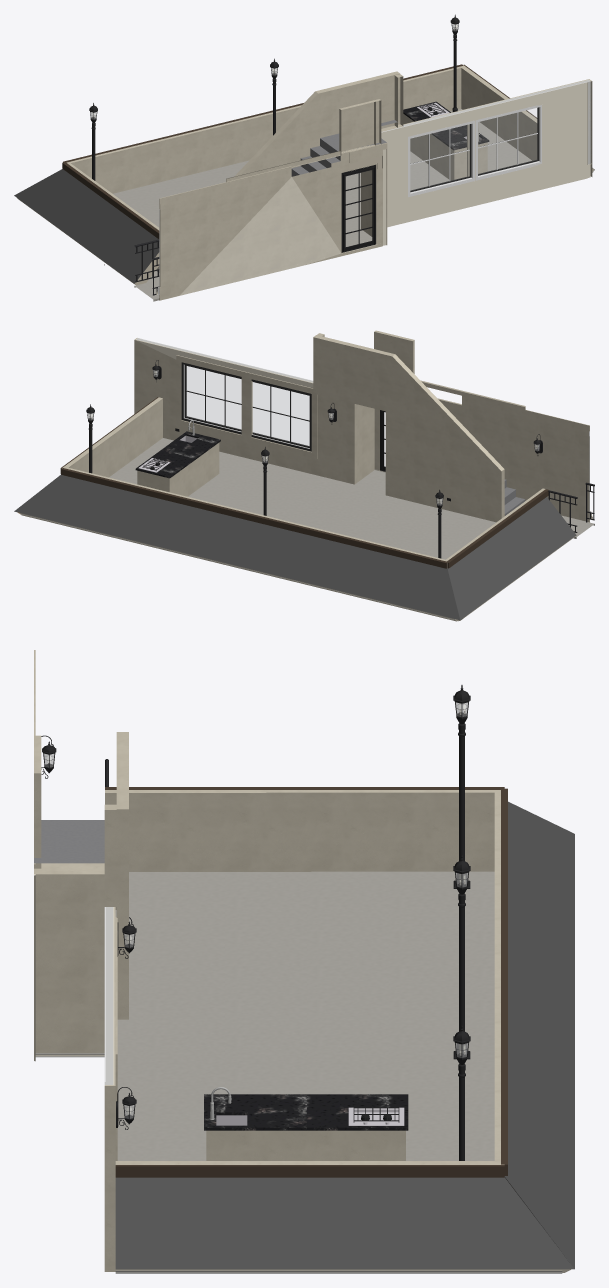
The model's file is rear-deck-8807fd7ee71a.glb.
The picture shows the model from 3 angles, top to bottom: view 1: azimuth 30°, elevation 25°; view 2: azimuth 150°, elevation 25°; view 3: azimuth 270°, elevation 25°; orthographic projection. The views are drawn at different scales.
Visible parts, largest first — view 1: rear-deck-bd62734a7bc60eb7, rear-deck-245f595ae2832e16, rear-deck-32021a86c784f0e0, rear-deck-36ed5266b1bc40cd, rear-deck-ded88bd99590d377, rear-deck-0ec1696dfdc5a594, rear-deck-85ede138eeba504d, rear-deck-cdd3b97a7e9637be, rear-deck-dd55bfb54febbe8b, rear-deck-b5f10ab9081c9955, rear-deck-0c482424d83488a1, rear-deck-6b027cd2e6bc0d64 (+9 smaller); view 2: rear-deck-5febae1537653d02, rear-deck-0ec1696dfdc5a594, rear-deck-ded88bd99590d377, rear-deck-bd62734a7bc60eb7, rear-deck-245f595ae2832e16, rear-deck-36ed5266b1bc40cd, rear-deck-cdd3b97a7e9637be, rear-deck-85ede138eeba504d, rear-deck-dd55bfb54febbe8b, rear-deck-d7a70b5818f54477, rear-deck-b5f10ab9081c9955, rear-deck-90ab9089a9e1325b (+9 smaller); view 3: rear-deck-ded88bd99590d377, rear-deck-0e7e1de83ff8e24c, rear-deck-18b8f93424e26a44, rear-deck-5febae1537653d02, rear-deck-6b027cd2e6bc0d64, rear-deck-385241de3d752b47, rear-deck-b5f10ab9081c9955, rear-deck-5e5272df00660e4c, rear-deck-35f8fcfce44c72b4, rear-deck-0ec1696dfdc5a594, rear-deck-d7a70b5818f54477, rear-deck-32021a86c784f0e0 (+10 smaller).
Boxes of the visible parts, x1,y1,x2,y2 form: rear-deck-bd62734a7bc60eb7: [159, 143, 387, 300]; rear-deck-245f595ae2832e16: [361, 79, 590, 228]; rear-deck-32021a86c784f0e0: [67, 66, 462, 193]; rear-deck-36ed5266b1bc40cd: [14, 169, 159, 283]; rear-deck-ded88bd99590d377: [113, 109, 531, 298]; rear-deck-0ec1696dfdc5a594: [234, 71, 400, 176]; rear-deck-85ede138eeba504d: [408, 120, 474, 197]; rear-deck-cdd3b97a7e9637be: [475, 105, 541, 180]; rear-deck-dd55bfb54febbe8b: [461, 65, 537, 160]; rear-deck-b5f10ab9081c9955: [403, 114, 487, 180]; rear-deck-0c482424d83488a1: [339, 100, 375, 153]; rear-deck-6b027cd2e6bc0d64: [361, 149, 386, 245]; rear-deck-5febae1537653d02: [14, 475, 459, 620]; rear-deck-0ec1696dfdc5a594: [313, 335, 504, 522]; rear-deck-ded88bd99590d377: [109, 438, 589, 559]; rear-deck-bd62734a7bc60eb7: [374, 396, 589, 522]; rear-deck-245f595ae2832e16: [134, 338, 354, 484]; rear-deck-36ed5266b1bc40cd: [447, 497, 576, 619]; rear-deck-cdd3b97a7e9637be: [181, 362, 241, 434]; rear-deck-85ede138eeba504d: [251, 379, 311, 451]; rear-deck-dd55bfb54febbe8b: [62, 397, 162, 477]; rear-deck-d7a70b5818f54477: [61, 468, 447, 568]; rear-deck-b5f10ab9081c9955: [137, 443, 219, 496]; rear-deck-90ab9089a9e1325b: [241, 371, 317, 458]; rear-deck-ded88bd99590d377: [35, 871, 494, 1160]; rear-deck-0e7e1de83ff8e24c: [115, 1177, 574, 1269]; rear-deck-18b8f93424e26a44: [105, 790, 500, 871]; rear-deck-5febae1537653d02: [504, 801, 574, 1268]; rear-deck-6b027cd2e6bc0d64: [35, 871, 104, 1052]; rear-deck-385241de3d752b47: [204, 1094, 408, 1130]; rear-deck-b5f10ab9081c9955: [206, 1130, 405, 1160]; rear-deck-5e5272df00660e4c: [115, 1165, 504, 1177]; rear-deck-35f8fcfce44c72b4: [35, 820, 104, 889]; rear-deck-0ec1696dfdc5a594: [116, 732, 128, 1019]; rear-deck-d7a70b5818f54477: [501, 788, 507, 1175]; rear-deck-32021a86c784f0e0: [494, 790, 504, 1164].
Size of the model in its own units: 12.61 by 3.84 by 6.62.
Materials: 30 (5 with a texture image).
